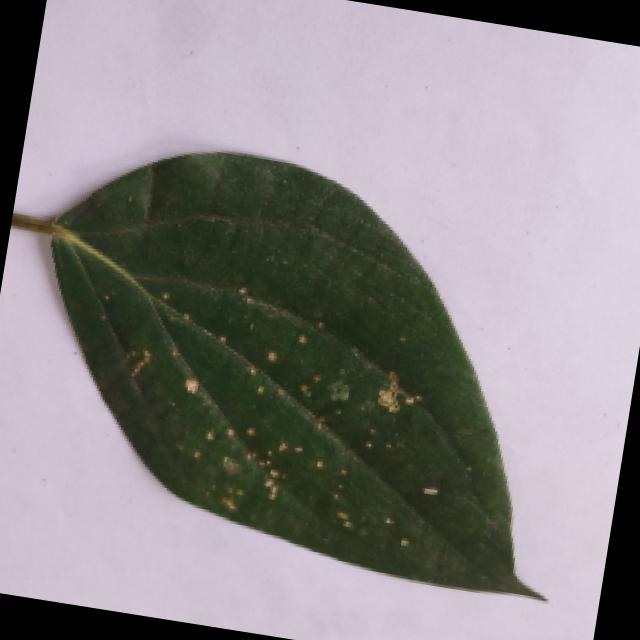pollu-disease: (0, 126, 614, 617)
